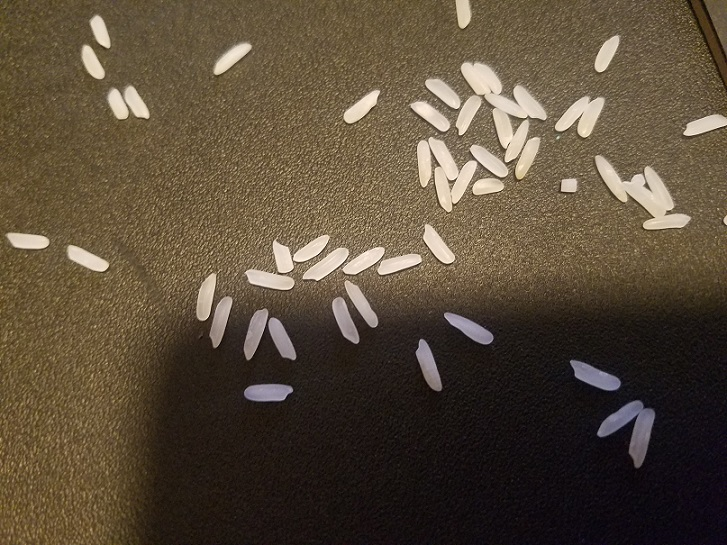egg: (592, 397, 645, 439), (568, 355, 622, 393), (627, 406, 658, 471), (442, 309, 495, 347), (342, 278, 380, 329), (619, 180, 666, 219), (591, 153, 627, 203), (302, 245, 350, 282), (413, 337, 444, 394), (642, 162, 677, 212), (420, 219, 456, 266), (240, 307, 270, 362), (329, 295, 361, 345), (466, 141, 509, 178), (339, 87, 382, 124), (408, 97, 451, 134), (447, 158, 480, 205), (553, 94, 592, 133), (572, 96, 608, 138), (211, 41, 254, 76), (266, 315, 298, 362), (427, 136, 461, 180), (509, 84, 551, 119), (423, 77, 464, 111), (66, 242, 108, 275), (502, 119, 532, 165), (590, 34, 623, 75), (208, 295, 233, 348), (342, 245, 386, 275), (243, 267, 295, 292), (376, 251, 424, 278), (513, 136, 542, 180), (452, 93, 482, 135), (458, 62, 493, 98), (680, 112, 727, 138), (292, 232, 331, 263), (193, 272, 216, 323), (487, 91, 528, 119), (122, 84, 153, 119), (243, 382, 294, 403), (432, 163, 453, 214), (79, 42, 107, 80), (472, 62, 505, 94), (4, 229, 51, 251), (270, 238, 299, 272), (640, 211, 689, 231), (492, 105, 513, 149), (105, 86, 131, 121), (89, 14, 114, 49), (417, 138, 432, 190), (470, 177, 503, 196), (456, 1, 474, 32), (559, 178, 579, 193), (631, 170, 646, 186)
